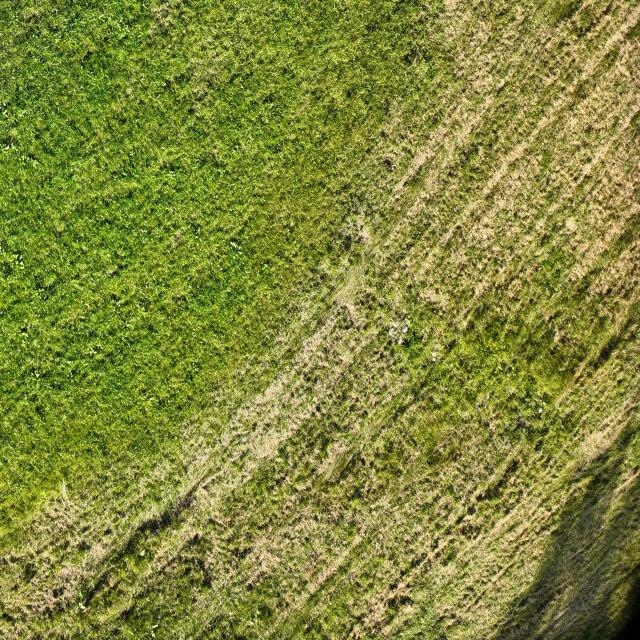rumex: (80, 5, 139, 70), (179, 40, 240, 100), (336, 192, 372, 248), (336, 256, 373, 310), (217, 237, 252, 286), (608, 3, 640, 47), (543, 1, 584, 34), (590, 331, 624, 369), (338, 299, 368, 336), (399, 44, 425, 70), (489, 76, 512, 104), (180, 529, 204, 555), (333, 337, 354, 363), (150, 4, 172, 26), (208, 510, 232, 530), (403, 168, 424, 188), (561, 216, 581, 237), (150, 614, 169, 636), (88, 335, 104, 354), (428, 389, 444, 408), (552, 328, 566, 348), (24, 7, 42, 22), (1, 141, 20, 155), (385, 598, 399, 617), (397, 592, 413, 608), (450, 223, 464, 239), (192, 85, 206, 100), (34, 286, 47, 302), (381, 156, 394, 172), (340, 235, 352, 252), (550, 233, 560, 253), (539, 230, 548, 248), (105, 266, 118, 278), (380, 128, 391, 142), (486, 416, 495, 432), (446, 338, 456, 352), (172, 230, 182, 244), (583, 122, 593, 136), (69, 280, 81, 291), (54, 223, 64, 235), (227, 619, 234, 636), (10, 253, 20, 264), (122, 628, 133, 638), (369, 624, 377, 635), (467, 377, 476, 386), (126, 319, 134, 329), (230, 240, 238, 250), (28, 134, 36, 144), (314, 404, 322, 414), (114, 298, 122, 307), (302, 623, 310, 632), (462, 494, 468, 506), (634, 466, 640, 478), (191, 359, 198, 369), (248, 618, 256, 626), (88, 348, 95, 357), (346, 220, 353, 229), (432, 536, 438, 546), (262, 264, 270, 271), (79, 604, 87, 611), (138, 548, 144, 557), (76, 603, 82, 612), (21, 331, 28, 338), (186, 274, 192, 282), (150, 624, 158, 630), (138, 286, 144, 293), (19, 262, 25, 269), (21, 109, 27, 116), (150, 630, 156, 637), (195, 228, 200, 236), (21, 155, 26, 163), (289, 220, 294, 228), (141, 284, 147, 290), (546, 288, 550, 296), (568, 318, 572, 324)
